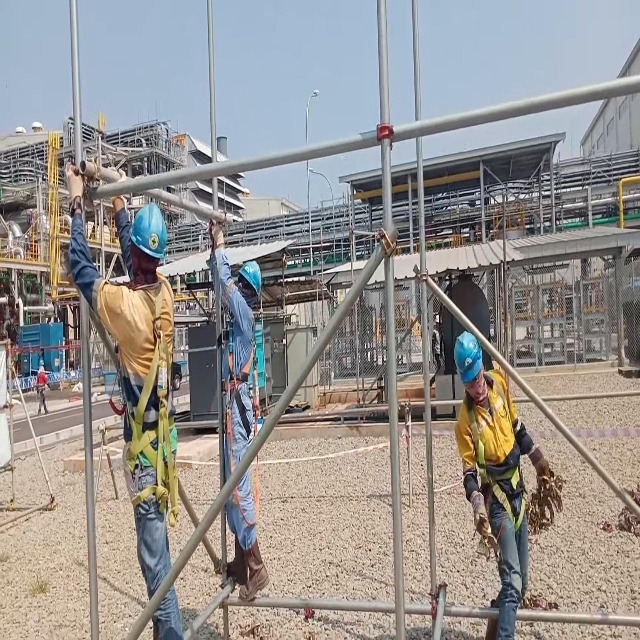Arnes_seguridad: (120, 281, 182, 533), (463, 370, 526, 534), (223, 317, 264, 532)
